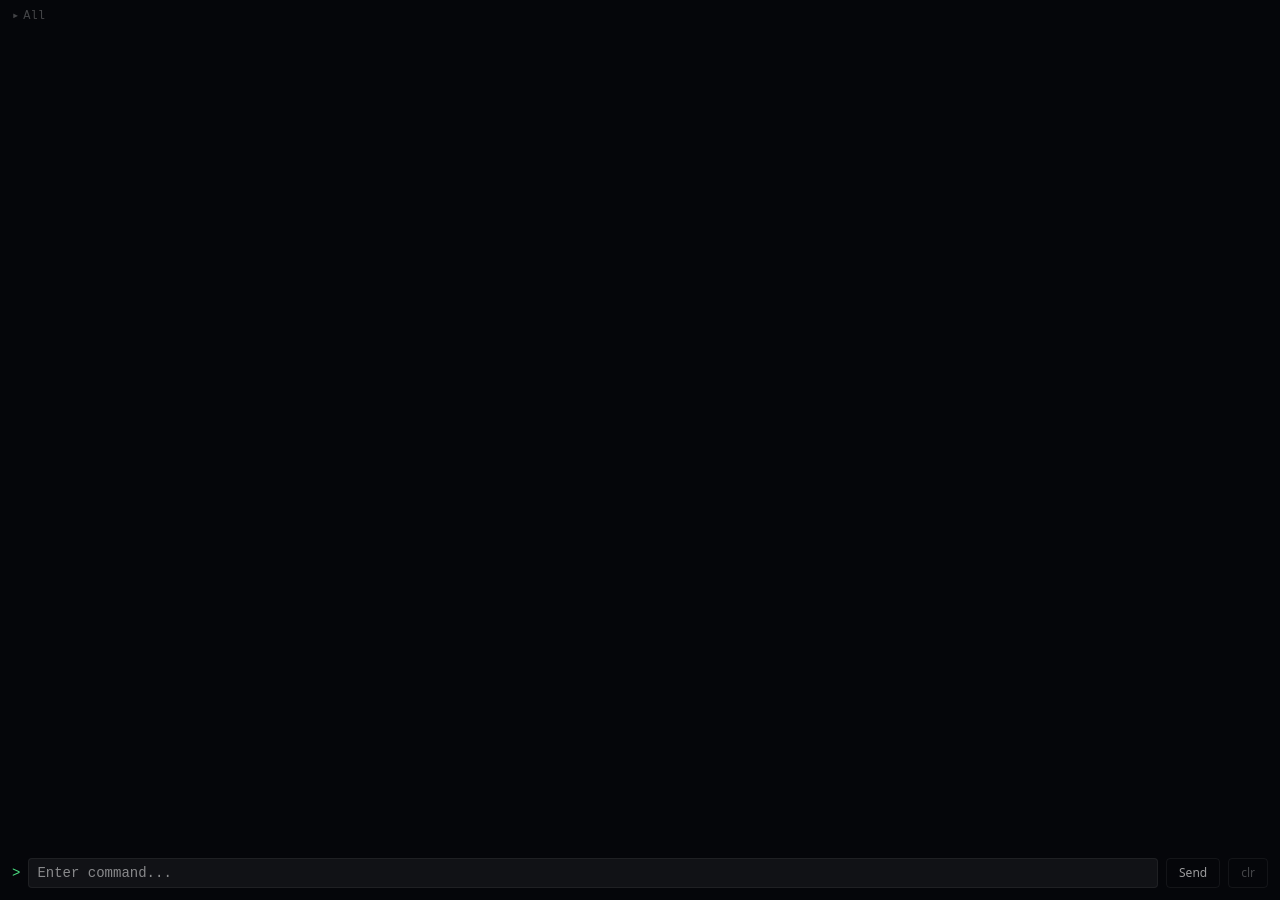
ConsoleTile command failures › shows the failure and restores the command for a retry
The image size is (1280, 900).
Type "stop" into the field named "Server command".
click(593, 873); type("stop")  # box [28,858,1158,888]
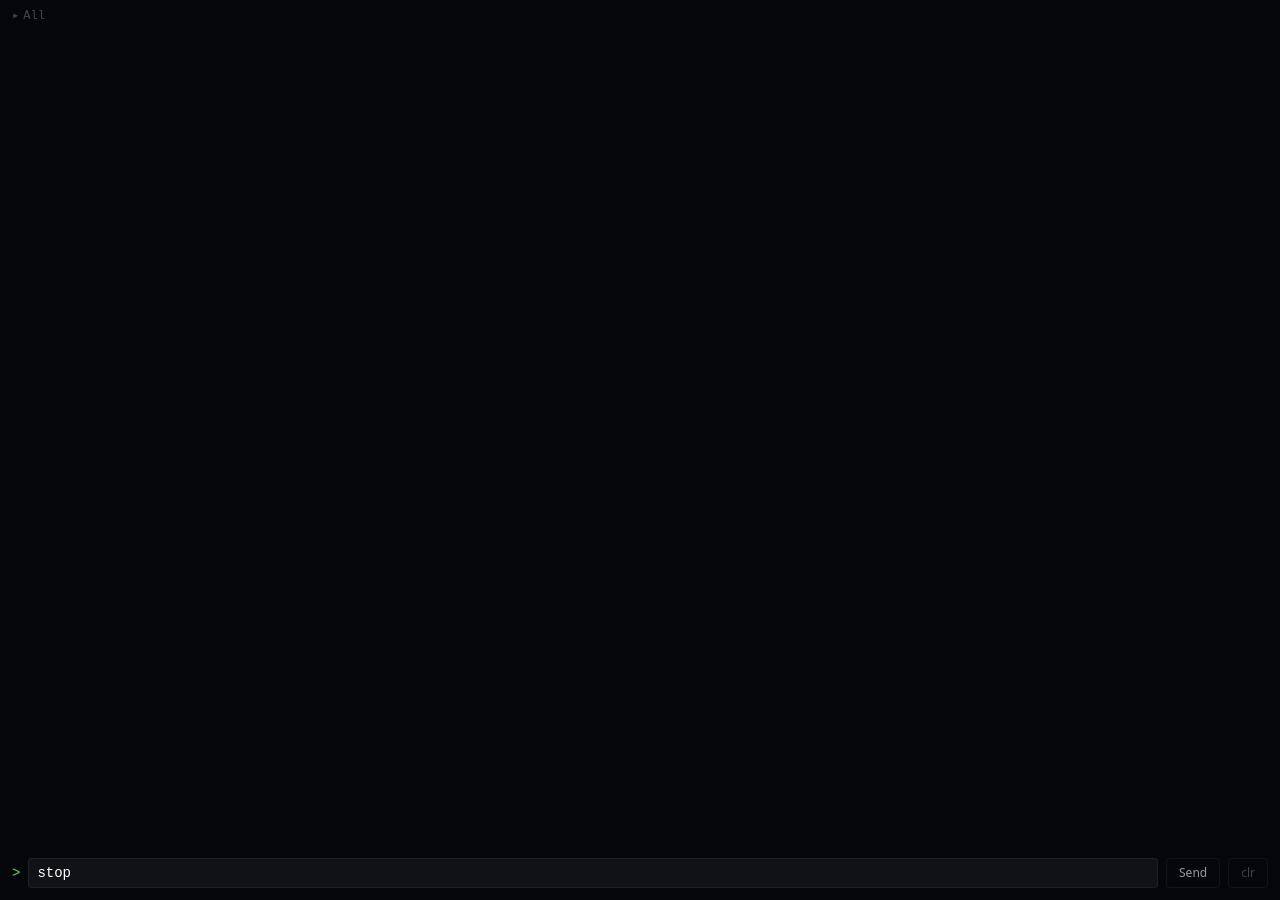
Click the button "Send".
click(1193, 873)  # box [1166,858,1220,888]
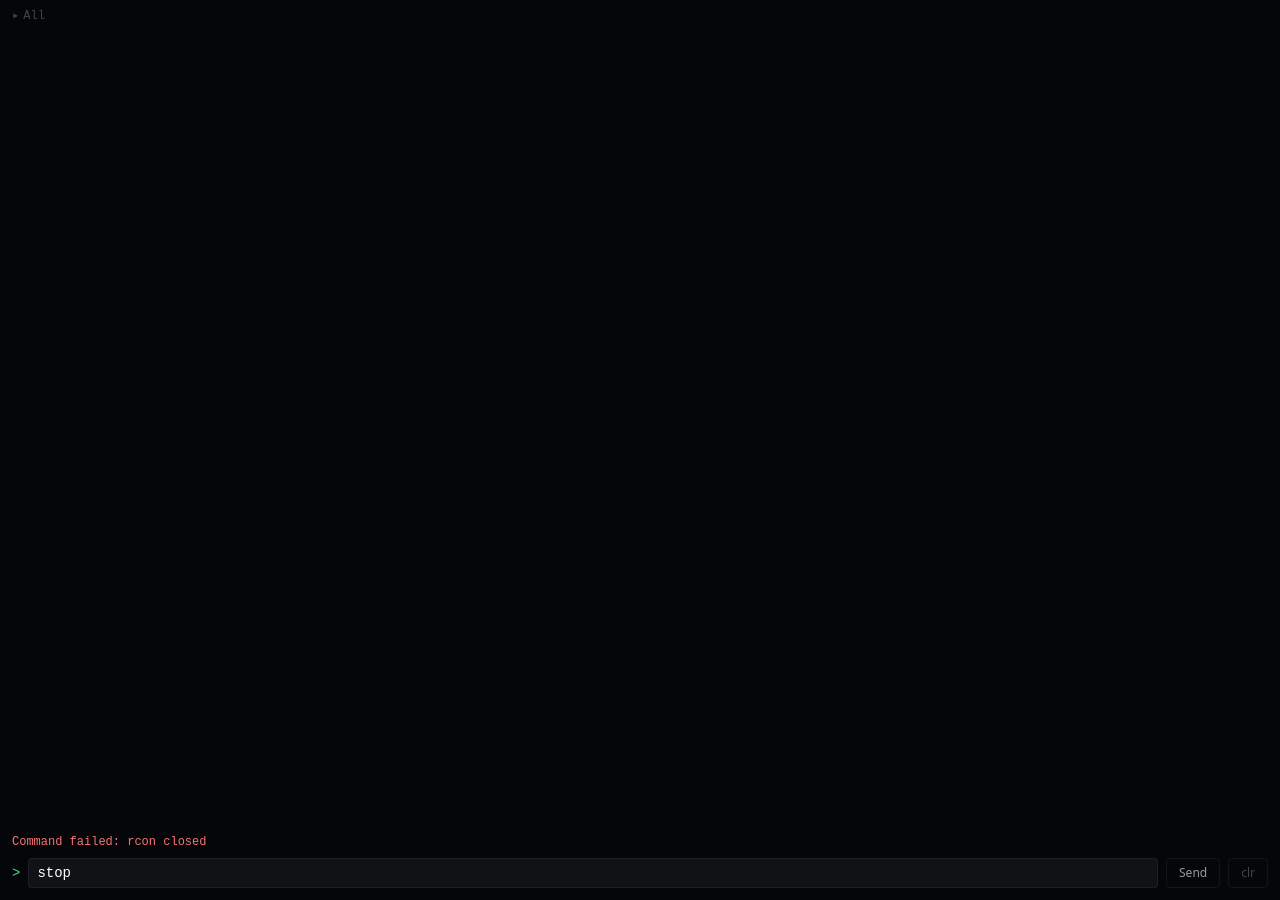
Expected: the message shows "rcon closed", [127,835,206,849]
